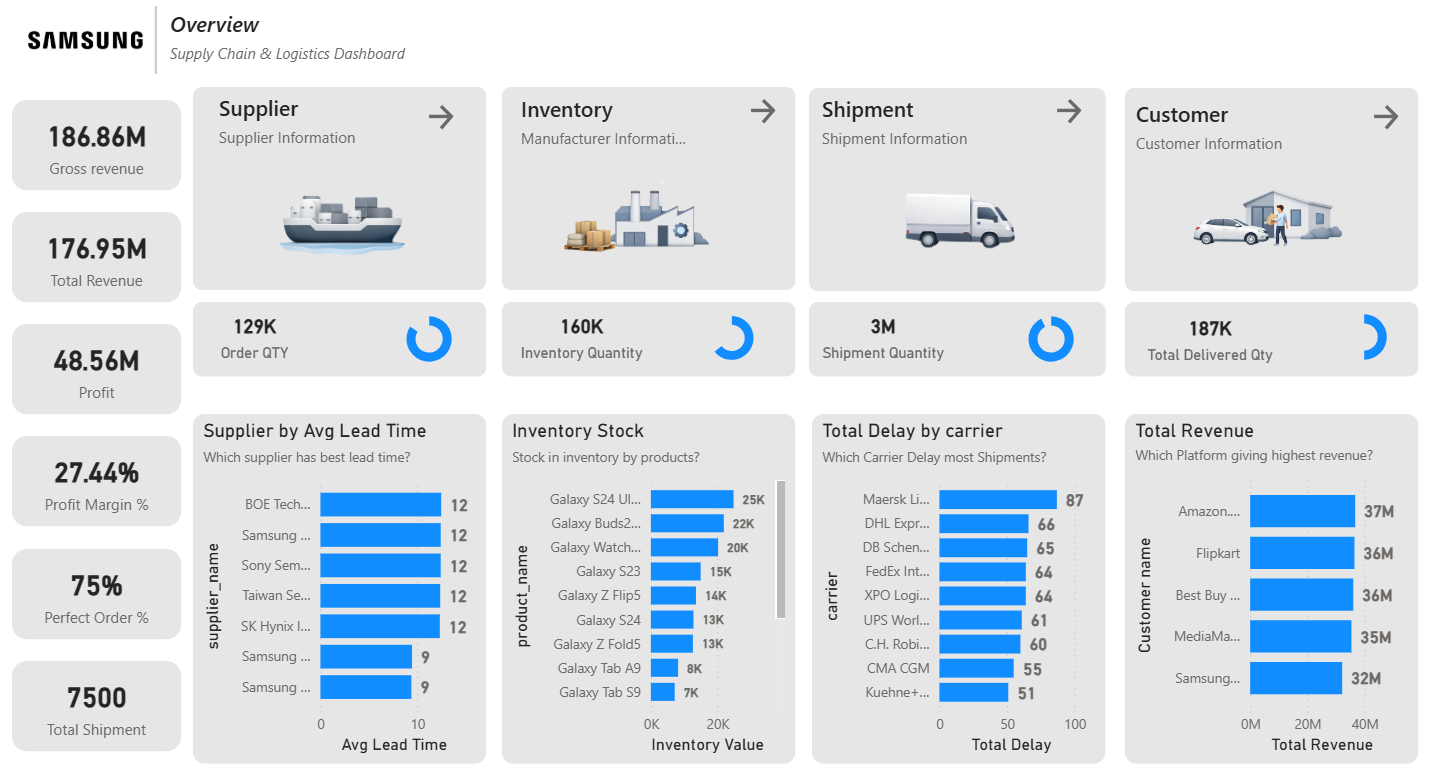

This screenshot's page, from the dashboard's own definition file:
{"tool":"powerbi","page":{"name":"Page 1","canvas":[1280,720],"ordinal":0},"visuals":[{"type":"shape","box":[183.5,84.6,260,179.9],"z":0},{"type":"shape","box":[457.8,84.6,260,179.9],"z":1000},{"type":"shape","box":[729.5,85.5,262.7,179.9],"z":2000},{"type":"shape","box":[1010.1,85.5,260,179.9],"z":3000},{"type":"image","box":[248.3,136.7,130.4,128.6],"z":4000},{"type":"image","box":[498.3,121.4,147.5,147.5],"z":5000},{"type":"image","box":[806,141.2,112.4,114.2],"z":6000},{"type":"image","box":[1065,121.4,150.2,152.9],"z":7000},{"type":"actionButton","box":[387.7,95.3,33.3,30.6],"z":8000},{"type":"actionButton","box":[672.8,90.9,34.2,30.6],"z":9000},{"type":"actionButton","box":[944.5,90.9,33.3,30.6],"z":10000},{"type":"actionButton","box":[1225.1,95.3,34.2,30.6],"z":11000},{"type":"shape","title":"Supplier","box":[206.9,89.9,147.2,54.1],"z":12000},{"type":"shape","title":"Inventory","box":[474,90.9,146.6,54],"z":13000},{"type":"shape","title":"Shipment","box":[741.2,90.9,147.5,54],"z":14000},{"type":"shape","title":"Customer","box":[1020,94.4,146.6,54],"z":15000},{"type":"shape","title":"Overview","box":[162.8,15.3,234.8,54],"z":16000},{"type":"shape","box":[128.6,12.6,44.1,60.3],"z":17000},{"type":"image","box":[29.7,0,113.3,84.6],"z":18000},{"type":"card","fields":{"Values":["MeasureTable.Total_Revenue"]},"box":[22.7,195,150,80],"z":19000},{"type":"card","fields":{"Values":["MeasureTable.Profit"]},"box":[22.7,294.6,150,80],"z":20000},{"type":"card","fields":{"Values":["MeasureTable.Profit Margin %"]},"box":[22.7,394.1,150,80],"z":21000},{"type":"card","fields":{"Values":["MeasureTable.Perfect Order %"]},"box":[22.7,493.6,150,80],"z":22000},{"type":"card","fields":{"Values":["Sum(fact_sales.gross_revenue)"]},"box":[22.7,95.5,150,80],"z":23000},{"type":"card","fields":{"Values":["MeasureTable.Total Shipment"]},"box":[22.7,593.1,150,80],"z":24000},{"type":"shape","box":[183.5,275.2,260,65.7],"z":25000},{"type":"shape","box":[457.8,275.2,260,65.7],"z":26000},{"type":"shape","box":[729.5,275.2,262.7,65.7],"z":27000},{"type":"shape","box":[1010.1,275.2,260,65.7],"z":28000},{"type":"card","fields":{"Values":["MeasureTable.Order QTY"]},"box":[172.7,274.3,130.4,60.3],"z":29000},{"type":"card","fields":{"Values":["MeasureTable.Inventory Value"]},"box":[463.2,274.3,130.4,60.3],"z":30000},{"type":"card","fields":{"Values":["MeasureTable.Total Shipment Quantity"]},"box":[729.5,274.3,131.3,60.3],"z":31000},{"type":"card","fields":{"Values":["MeasureTable.Total Delivered Qty"]},"box":[1020,276.1,131.3,60.3],"z":32000},{"type":"clusteredBarChart","title":"Supplier by Avg Lead Time","fields":{"Y":["MeasureTable.Avg Lead Time"],"Category":["dim_supplier.supplier_name"]},"box":[183.5,374.2,260,310],"z":33000},{"type":"clusteredBarChart","title":"Inventory Stock","fields":{"Category":["dim_product.product_name"],"Y":["MeasureTable.Inventory Value"]},"box":[457.8,374.2,260,310],"z":34000},{"type":"clusteredBarChart","title":"Total Delay by carrier","fields":{"Category":["fact_shipment.carrier"],"Y":["MeasureTable.Total Delay"]},"box":[732.2,374.2,260,310],"z":35000},{"type":"clusteredBarChart","title":"Total Revenue","fields":{"Category":["dim_customer.customer_name"],"Y":["MeasureTable.Total_Revenue"]},"box":[1010.1,374.2,260,310.3],"z":36000},{"type":"donutChart","fields":{"Y":["MeasureTable.Inventory Value","Sum(fact_inventory.safety_stock_level)"]},"box":[620.7,277.9,81,58.5],"z":37000},{"type":"donutChart","fields":{"Y":["MeasureTable.Total Shipment","MeasureTable.Total Delay"]},"box":[905.8,277.9,76.5,60.3],"z":38000},{"type":"donutChart","fields":{"Y":["MeasureTable.Total Delivered Qty","MeasureTable.Total QTY Delay"]},"box":[1184.7,276.1,74.7,60.3],"z":39000},{"type":"donutChart","fields":{"Y":["MeasureTable.Order QTY","MeasureTable.Defect Rate"]},"box":[354.4,277.9,76.5,60.3],"z":40000}]}

Visuals, with their boxes in screenshot pixels (x1, y1, x2, y2), scaled from the page's 1280x720 canvas onto the 1430x784 screenshot:
shape: <box>205,92,495,288</box>
shape: <box>511,92,802,288</box>
shape: <box>815,93,1108,289</box>
shape: <box>1128,93,1419,289</box>
image: <box>277,149,423,289</box>
image: <box>557,132,721,293</box>
image: <box>900,154,1026,278</box>
image: <box>1190,132,1358,299</box>
actionButton: <box>433,104,470,137</box>
actionButton: <box>752,99,790,132</box>
actionButton: <box>1055,99,1092,132</box>
actionButton: <box>1369,104,1407,137</box>
"Supplier" shape: <box>231,98,396,157</box>
"Inventory" shape: <box>530,99,693,158</box>
"Shipment" shape: <box>828,99,993,158</box>
"Customer" shape: <box>1140,103,1303,162</box>
"Overview" shape: <box>182,17,444,75</box>
shape: <box>144,14,193,79</box>
image: <box>33,0,160,92</box>
card - MeasureTable.Total_Revenue: <box>25,212,193,299</box>
card - MeasureTable.Profit: <box>25,321,193,408</box>
card - MeasureTable.Profit Margin %: <box>25,429,193,516</box>
card - MeasureTable.Perfect Order %: <box>25,537,193,625</box>
card - Sum(fact_sales.gross_revenue): <box>25,104,193,191</box>
card - MeasureTable.Total Shipment: <box>25,646,193,733</box>
shape: <box>205,300,495,371</box>
shape: <box>511,300,802,371</box>
shape: <box>815,300,1108,371</box>
shape: <box>1128,300,1419,371</box>
card - MeasureTable.Order QTY: <box>193,299,339,364</box>
card - MeasureTable.Inventory Value: <box>517,299,663,364</box>
card - MeasureTable.Total Shipment Quantity: <box>815,299,962,364</box>
card - MeasureTable.Total Delivered Qty: <box>1140,301,1286,366</box>
"Supplier by Avg Lead Time" clusteredBarChart: <box>205,407,495,745</box>
"Inventory Stock" clusteredBarChart: <box>511,407,802,745</box>
"Total Delay by carrier" clusteredBarChart: <box>818,407,1108,745</box>
"Total Revenue" clusteredBarChart: <box>1128,407,1419,745</box>
donutChart - MeasureTable.Inventory Value x Sum(fact_inventory.safety_stock_level): <box>693,303,784,366</box>
donutChart - MeasureTable.Total Shipment x MeasureTable.Total Delay: <box>1012,303,1097,368</box>
donutChart - MeasureTable.Total Delivered Qty x MeasureTable.Total QTY Delay: <box>1324,301,1407,366</box>
donutChart - MeasureTable.Order QTY x MeasureTable.Defect Rate: <box>396,303,481,368</box>
